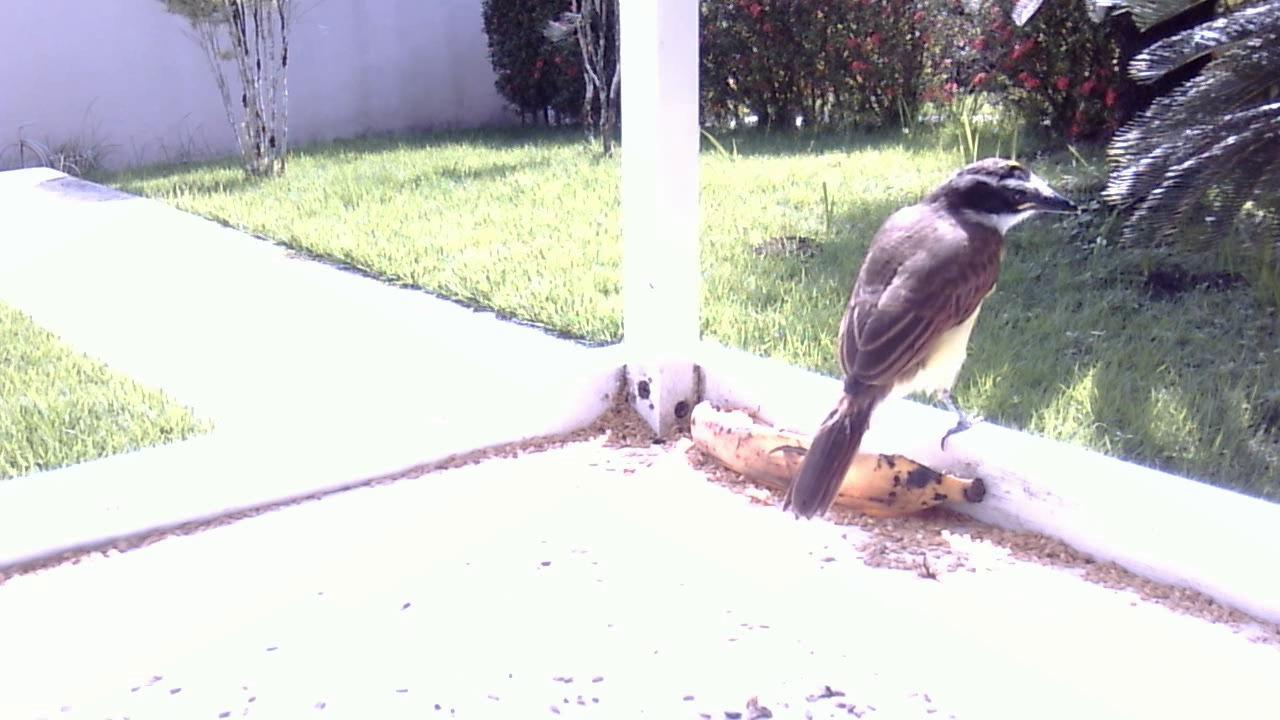bem_te_vi: (770, 150, 1081, 535)
